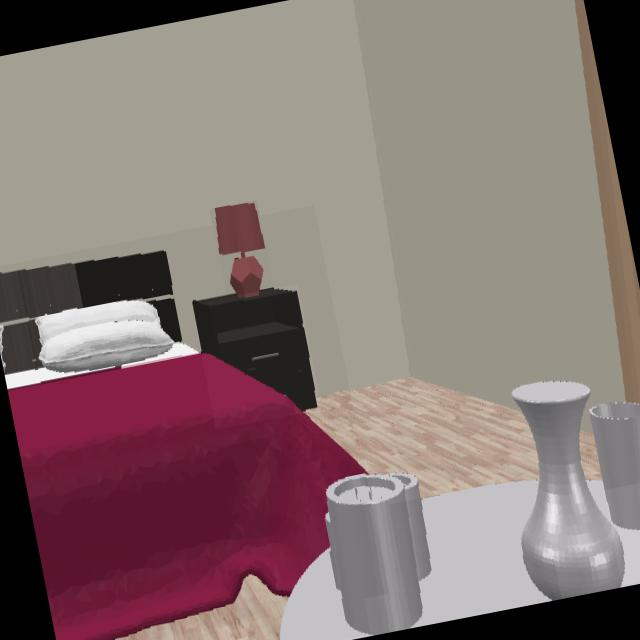bed: (0, 251, 366, 640)
lamp: (215, 206, 266, 298)
nighttable: (193, 290, 318, 411)
pillow: (37, 302, 181, 377)
table: (414, 483, 550, 627), (280, 551, 369, 640), (619, 530, 640, 586)
